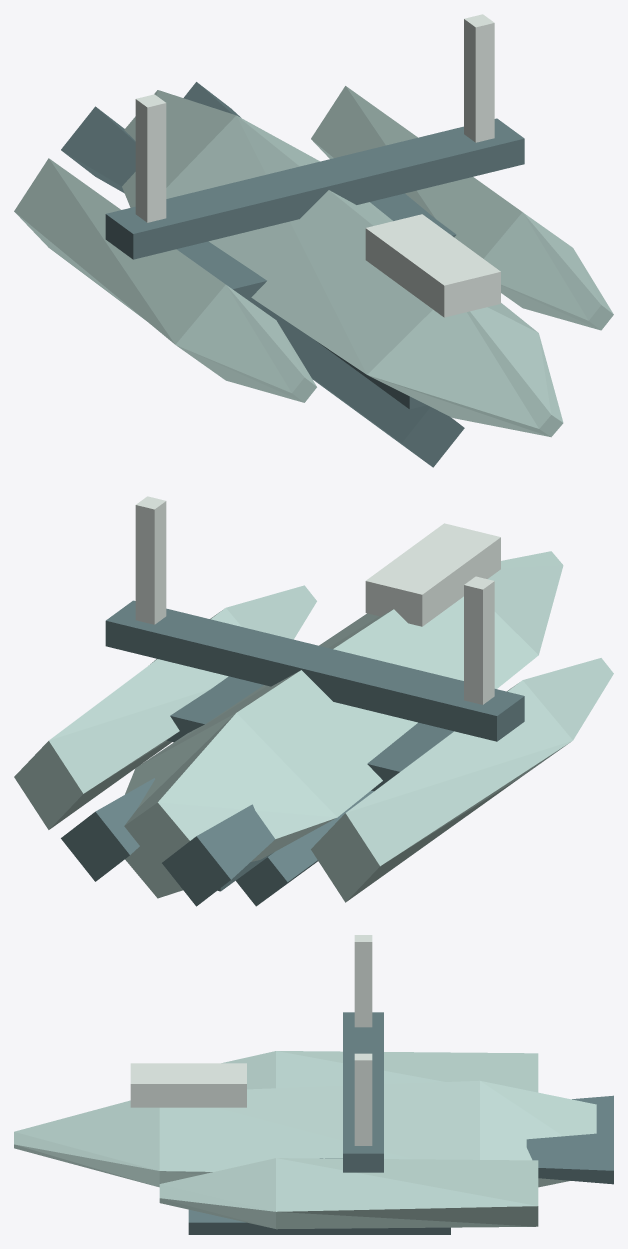
The picture shows the model from 3 angles, top to bottom: view 1: azimuth 30°, elevation 25°; view 2: azimuth 150°, elevation 25°; view 3: azimuth 270°, elevation 25°; orthographic projection. The views are drawn at different scales.
Bounding box in the file's own units: 2.52 × 1.94 × 4.45.
